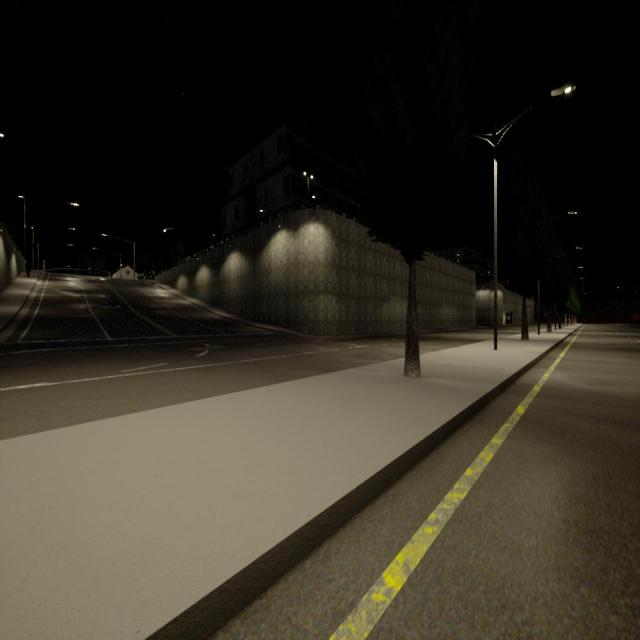Pedestrian: (25, 256, 32, 277)
Vehicle: (147, 272, 155, 280)
